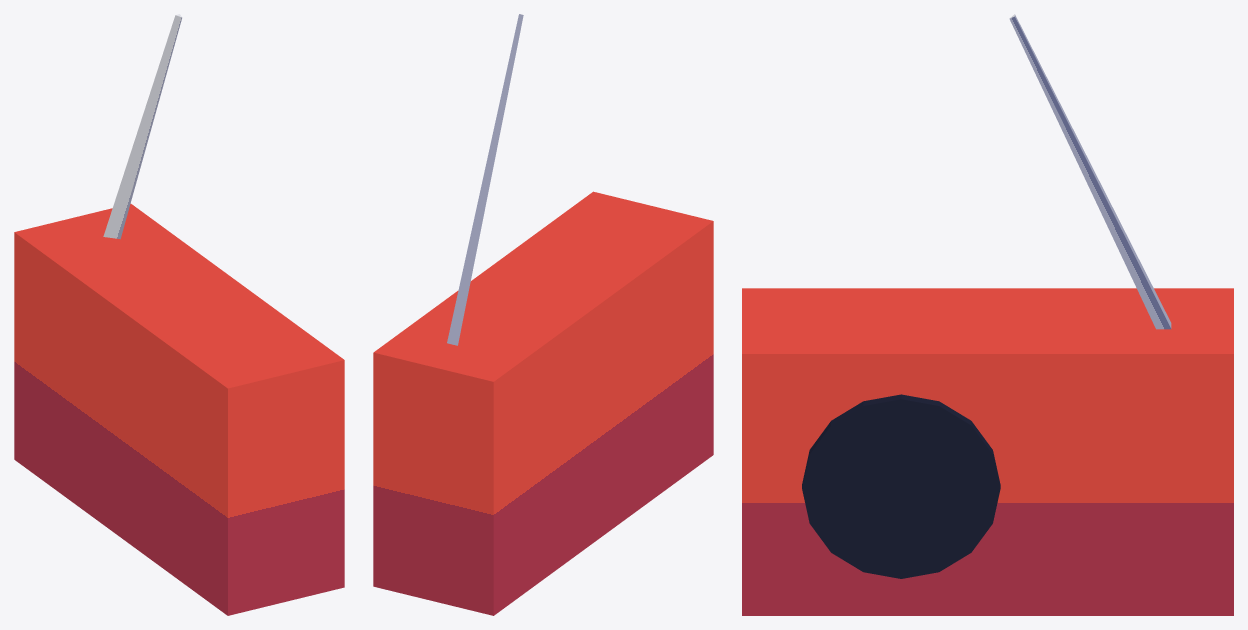
File: radio.glb
3 views of the same model, side by side, from view 1: azimuth 30°, elevation 25°; view 2: azimuth 150°, elevation 25°; view 3: azimuth 270°, elevation 25° (orthographic). The views are drawn at different scales.
Visible parts, largest first — view 1: Cube; view 2: Cube; view 3: Cube.
Part boxes in pixels (box(x1,y1,x2,y2)): Cube: box(14, 14, 344, 615); Cube: box(373, 14, 713, 615); Cube: box(742, 14, 1233, 615).
Size of the model in its own units: 3.05 by 11.57 by 8.99.
Materials: 2 (2 with a texture image).
